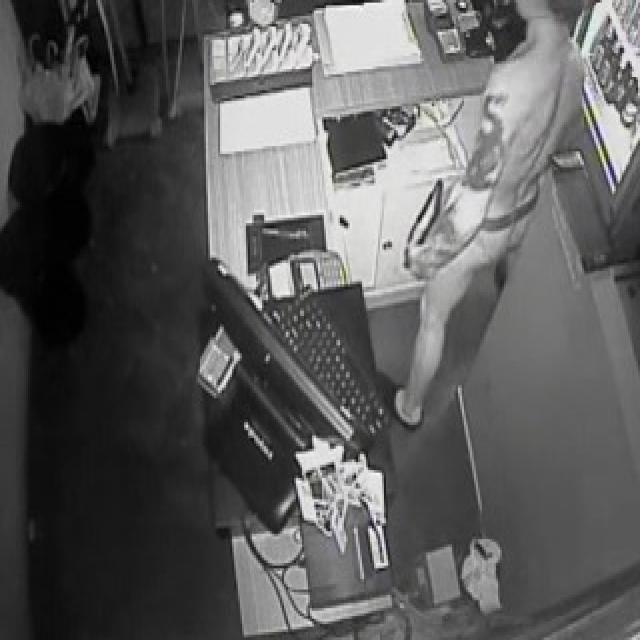thief: (503, 0, 592, 155)
